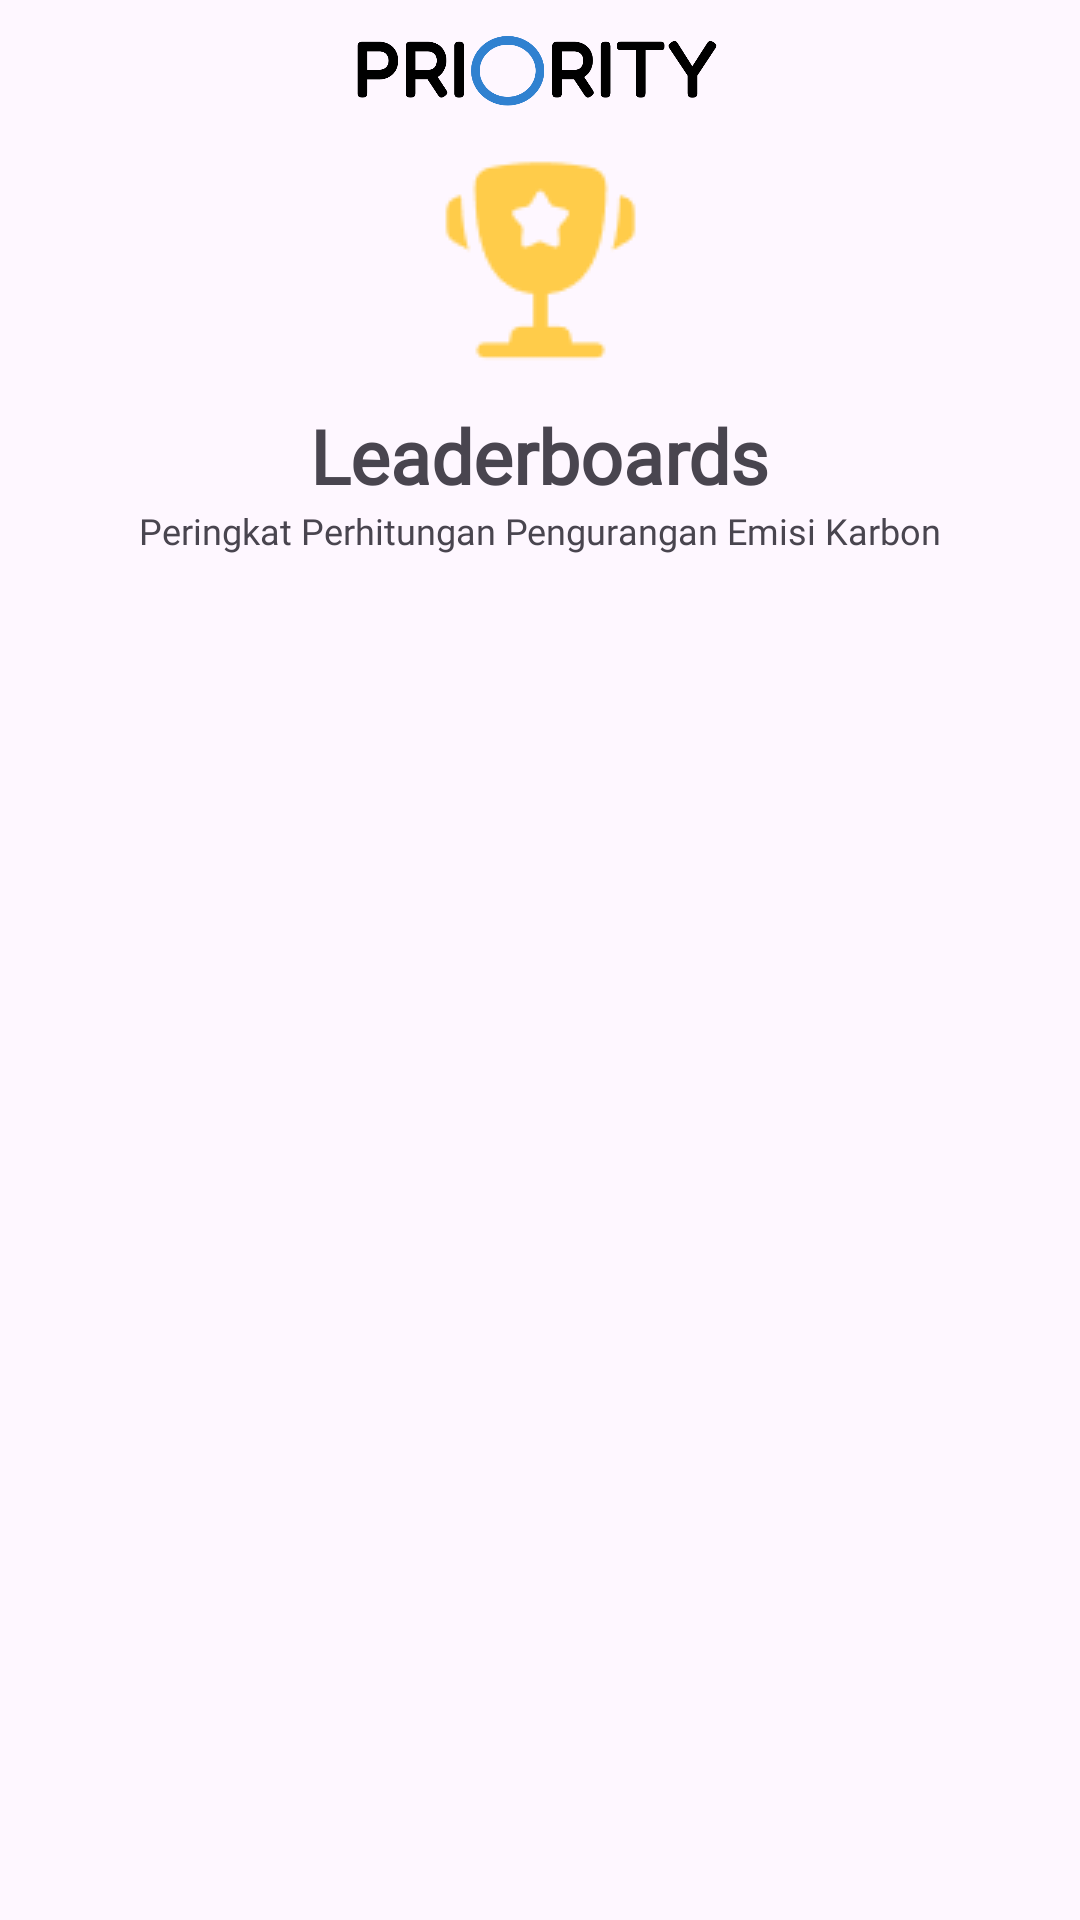

Icon bounding boxes for this 1080×1920 phone screenshot, format (x1, y1, x2, y2):
cup star: (445, 161, 636, 358)
